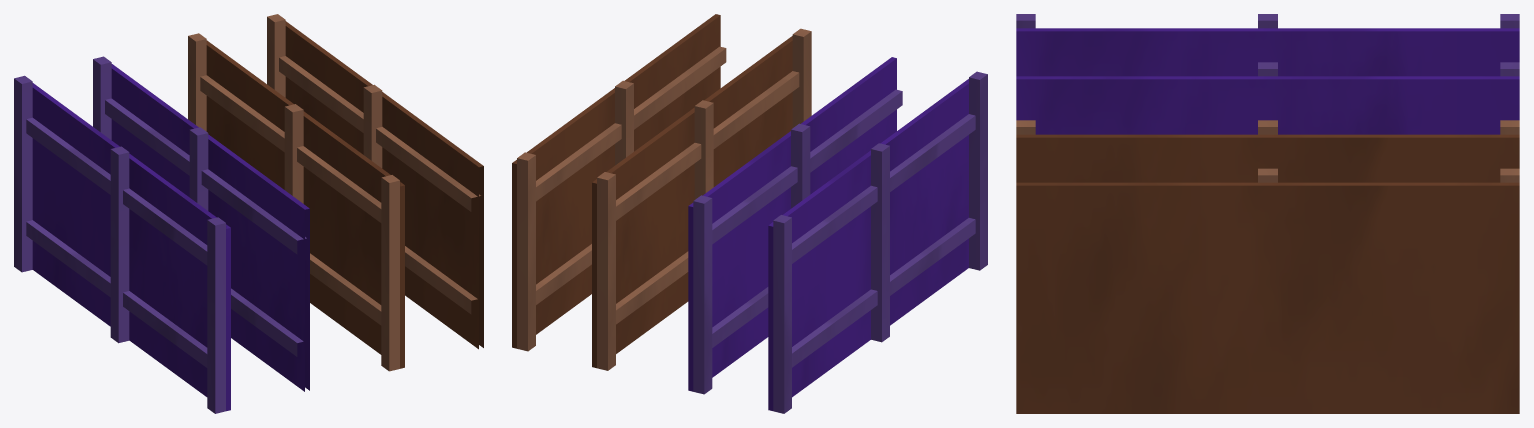
Rendered from SM_WoodenFences.fbx.
The picture shows the model from 3 angles, left to right: view 1: azimuth 30°, elevation 25°; view 2: azimuth 150°, elevation 25°; view 3: azimuth 270°, elevation 25°; orthographic projection. The views are drawn at different scales.
Visible parts, largest first — view 1: SM_WoodFenceDPainted, SM_WoodFenceD, SM_WoodFenceS, SM_WoodFenceSPainted; view 2: SM_WoodFenceDPainted, SM_WoodFenceD, SM_WoodFenceSPainted, SM_WoodFenceS; view 3: SM_WoodFenceS, SM_WoodFenceSPainted, SM_WoodFenceD, SM_WoodFenceDPainted.
Part boxes in pixels (<box>): SM_WoodFenceDPainted: <box>14,75,230,413</box>; SM_WoodFenceD: <box>188,33,404,371</box>; SM_WoodFenceS: <box>267,14,483,349</box>; SM_WoodFenceSPainted: <box>93,56,309,391</box>; SM_WoodFenceDPainted: <box>768,71,987,413</box>; SM_WoodFenceD: <box>592,28,811,370</box>; SM_WoodFenceSPainted: <box>688,57,902,394</box>; SM_WoodFenceS: <box>512,14,726,351</box>; SM_WoodFenceS: <box>1016,168,1519,413</box>; SM_WoodFenceSPainted: <box>1016,62,1519,134</box>; SM_WoodFenceD: <box>1016,120,1519,182</box>; SM_WoodFenceDPainted: <box>1016,14,1519,76</box>.
Bounding box in the file's own units: 4.63 × 3.1 × 6.
